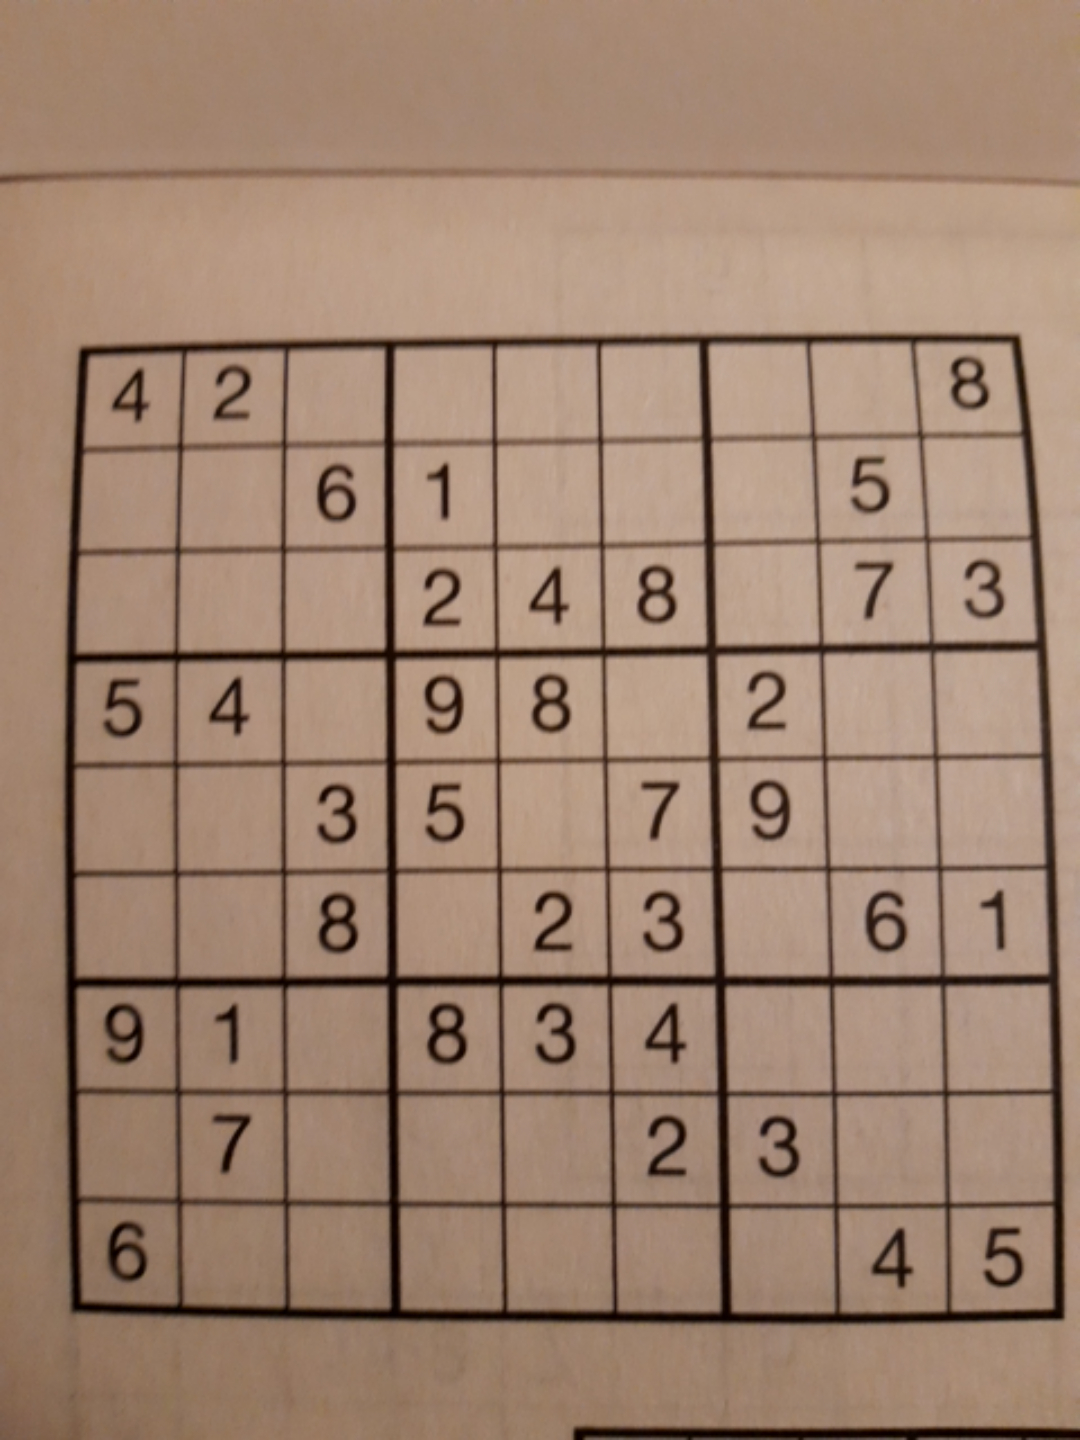sudoku: (53, 327, 1065, 1327)
